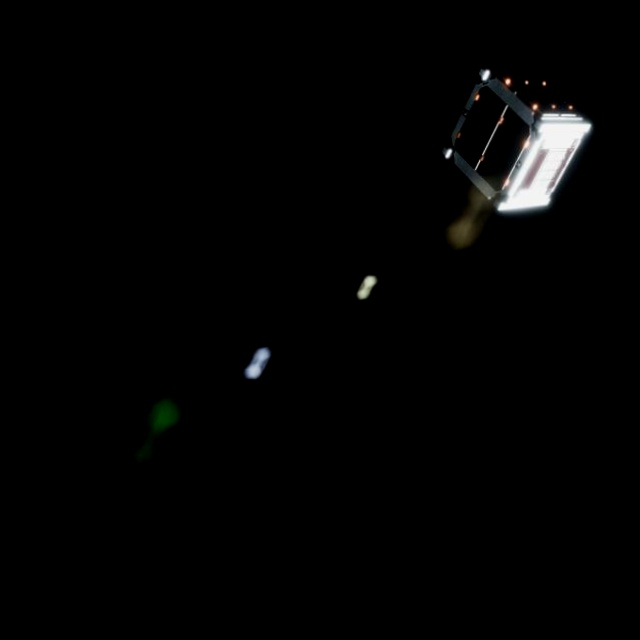satellite: (443, 61, 603, 236)
